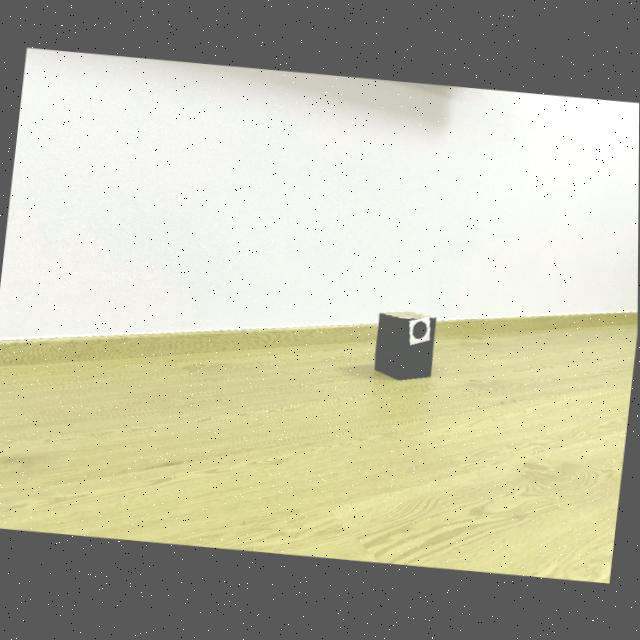CIRCLE: (413, 322, 427, 341)
